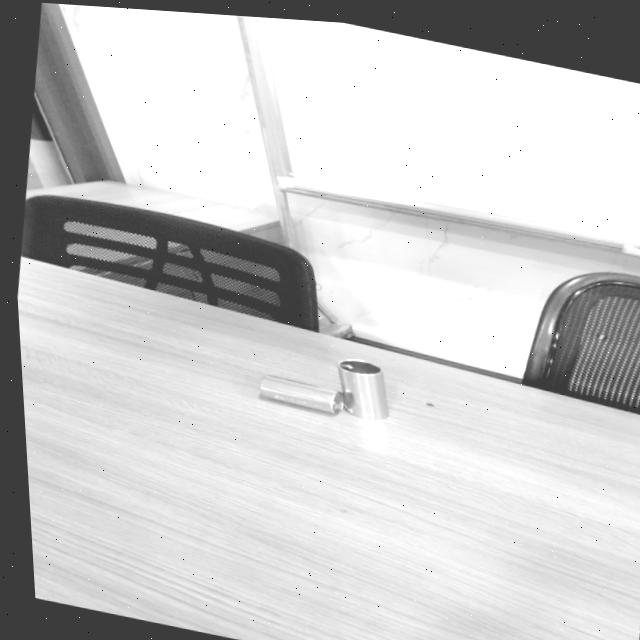Co_Lon: (258, 374, 347, 417)
Co_Nho: (337, 355, 390, 425)
